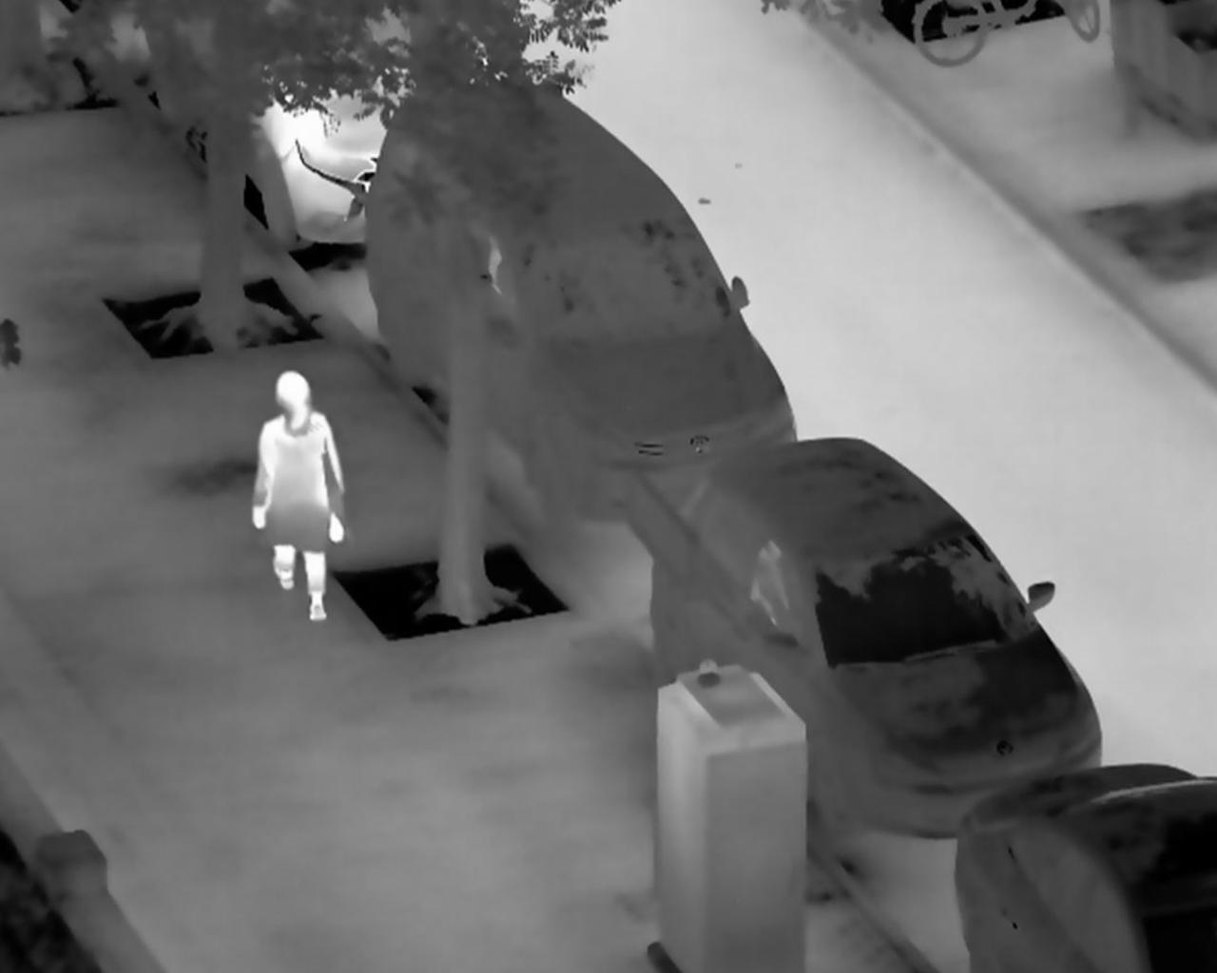person: (251, 371, 349, 623)
